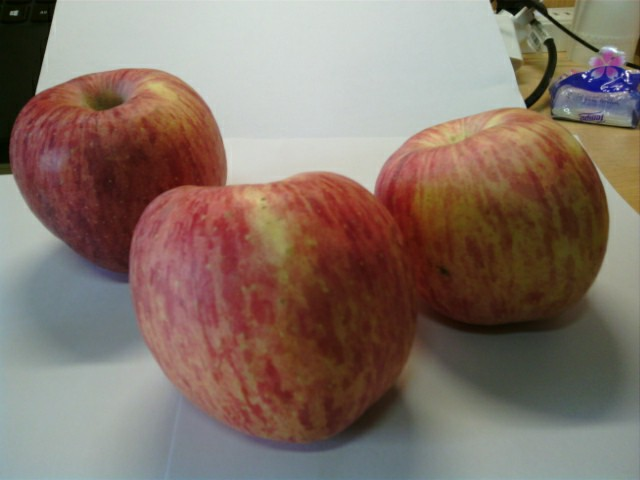normal_apple: (129, 174, 416, 444), (379, 106, 610, 335), (8, 68, 230, 272)
